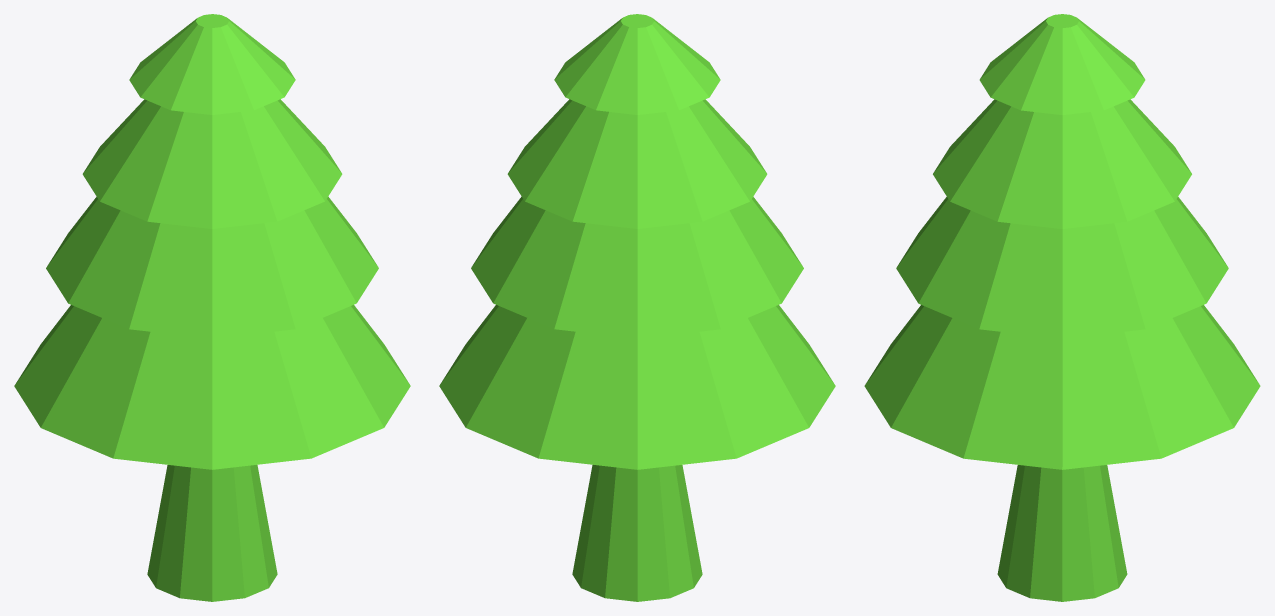
The model's file is Pino.fbx.
3 renders of one model, left to right at view 1: azimuth 30°, elevation 25°; view 2: azimuth 150°, elevation 25°; view 3: azimuth 270°, elevation 25°, orthographic.
Visible parts, largest first — view 1: Pino; view 2: Pino; view 3: Pino.
Part boxes in pixels (x1,y1,x2,y2): Pino: (14, 14, 410, 601); Pino: (439, 14, 835, 601); Pino: (864, 14, 1260, 601).
Bounding box in the file's own units: 455 × 700 × 454.
